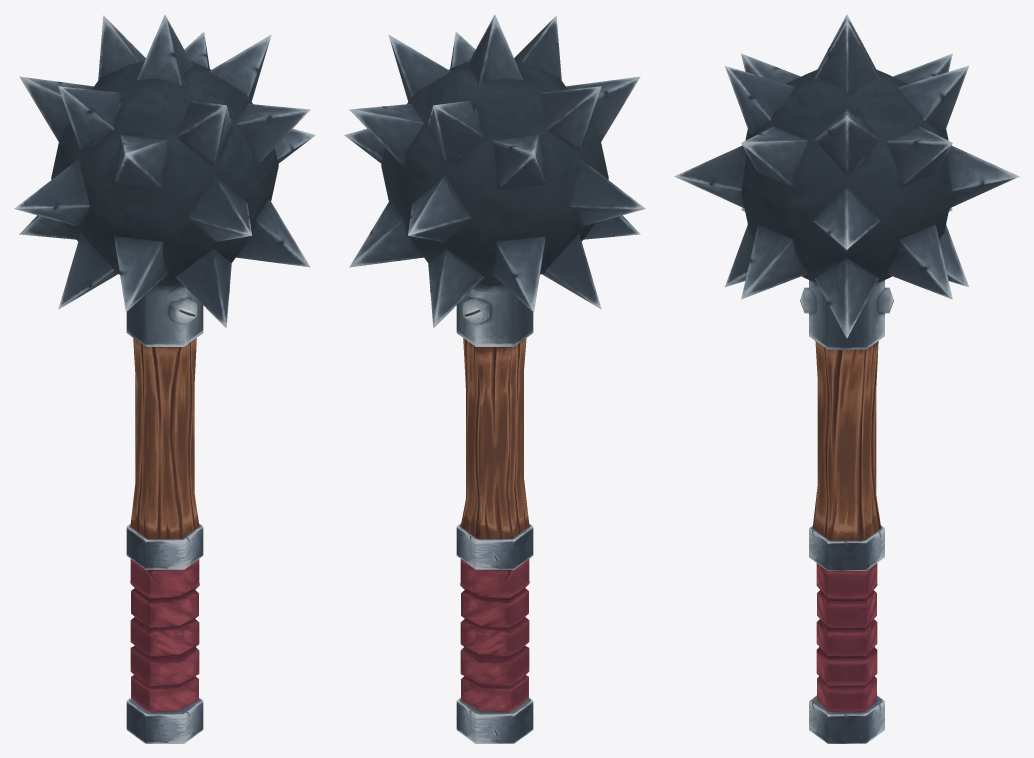
Rendered from w_mace__simple-steel-mace.glb.
The picture shows the model from 3 angles, left to right: view 1: azimuth 30°, elevation 25°; view 2: azimuth 150°, elevation 25°; view 3: azimuth 270°, elevation 25°; orthographic projection.
Parts seen in each view (by area): view 1: Mace; view 2: Mace; view 3: Mace.
Part boxes in pixels (box(x1,y1,x2,y2)): Mace: box(14, 14, 315, 743); Mace: box(344, 14, 645, 743); Mace: box(674, 14, 1019, 743).
Size of the model in its own units: 8.51 by 19.28 by 8.51.
1 material, 1 textured.
